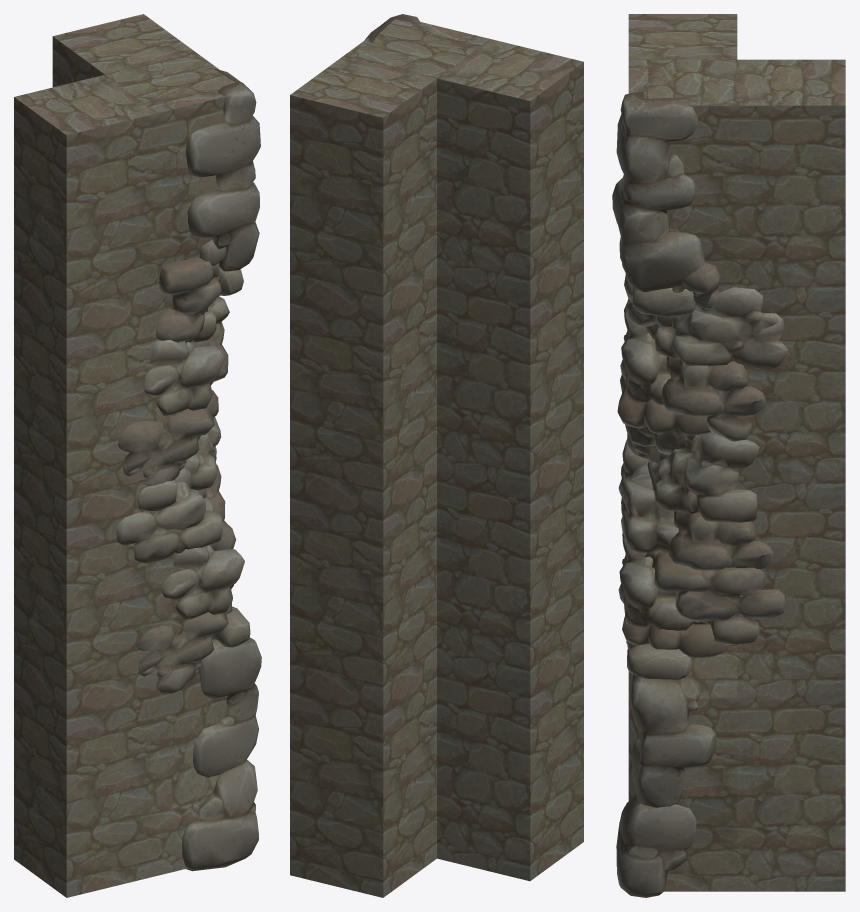
Rendered from MSH_fwOF_Ruins_Wall_Corner_Tall_B.fbx.
The picture shows the model from 3 angles, left to right: view 1: azimuth 30°, elevation 25°; view 2: azimuth 150°, elevation 25°; view 3: azimuth 270°, elevation 25°; orthographic projection. The views are drawn at different scales.
Parts seen in each view (by area): view 1: MSH_fwOF_Ruins_Wall_Corner_Tall_B_Base, MSH_fwOF_Ruins_Wall_Corner_Tall_B_LOD0; view 2: MSH_fwOF_Ruins_Wall_Corner_Tall_B_Base; view 3: MSH_fwOF_Ruins_Wall_Corner_Tall_B_Base, MSH_fwOF_Ruins_Wall_Corner_Tall_B_LOD0.
Part boxes in pixels (x1=…): MSH_fwOF_Ruins_Wall_Corner_Tall_B_Base: x1=14, y1=14, x2=235, y2=897; MSH_fwOF_Ruins_Wall_Corner_Tall_B_LOD0: x1=116, y1=68, x2=261, y2=871; MSH_fwOF_Ruins_Wall_Corner_Tall_B_Base: x1=290, y1=19, x2=583, y2=897; MSH_fwOF_Ruins_Wall_Corner_Tall_B_Base: x1=628, y1=14, x2=845, y2=891; MSH_fwOF_Ruins_Wall_Corner_Tall_B_LOD0: x1=612, y1=92, x2=788, y2=897.
Size of what is drawn, in the model's own units: 2.24 by 8.14 by 2.15.
